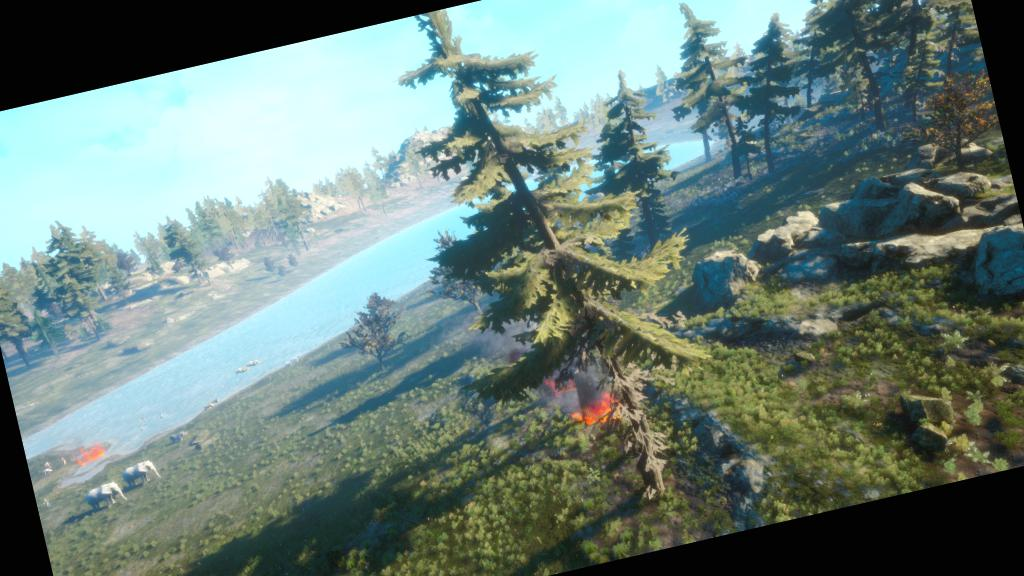Fire: (580, 395, 622, 428), (73, 445, 111, 468)
elephant: (74, 476, 134, 526), (114, 456, 168, 491)
human: (36, 491, 62, 514)
pig: (38, 462, 62, 480)
smoke: (466, 315, 530, 362), (551, 366, 604, 410)
